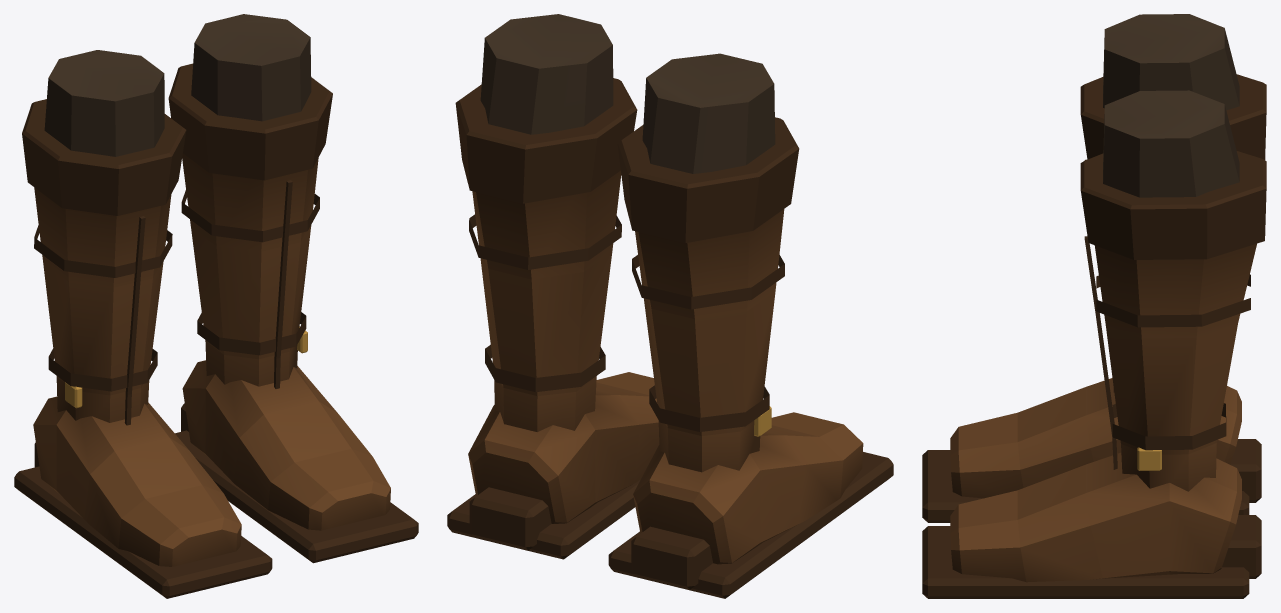
File: f_boots.glb
3 views of the same model, side by side, from view 1: azimuth 30°, elevation 25°; view 2: azimuth 150°, elevation 25°; view 3: azimuth 270°, elevation 25° (orthographic). The views are drawn at different scales.
Parts seen in each view (by area): view 1: LegR_Boot, LegL_Boot, LegR_BootFoot, LegL_BootFoot, LegL_Shin, LegR_Shin; view 2: LegR_Boot, LegL_Boot, LegR_BootFoot, LegL_BootFoot, LegL_Shin, LegR_Shin; view 3: LegL_Boot, LegL_BootFoot, LegR_BootFoot, LegL_Shin, LegR_Shin, LegR_Boot.
Boxes of the visible parts, bbox=[...] form: LegR_Boot: bbox=[22, 99, 186, 425]; LegL_Boot: bbox=[168, 63, 332, 388]; LegR_BootFoot: bbox=[14, 396, 272, 598]; LegL_BootFoot: bbox=[175, 360, 418, 563]; LegL_Shin: bbox=[191, 14, 311, 121]; LegR_Shin: bbox=[44, 50, 164, 156]; LegR_Boot: bbox=[617, 117, 799, 472]; LegL_Boot: bbox=[455, 78, 637, 431]; LegR_BootFoot: bbox=[608, 412, 893, 598]; LegL_BootFoot: bbox=[447, 372, 659, 559]; LegL_Shin: bbox=[480, 14, 613, 134]; LegR_Shin: bbox=[642, 53, 775, 173]; LegL_Boot: bbox=[1080, 151, 1266, 491]; LegL_BootFoot: bbox=[922, 452, 1261, 598]; LegR_BootFoot: bbox=[922, 378, 1261, 522]; LegL_Shin: bbox=[1103, 90, 1239, 197]; LegR_Shin: bbox=[1103, 14, 1239, 110]; LegR_Boot: bbox=[1080, 74, 1266, 392].
Bounding box in the file's own units: 0.3574 × 0.5373 × 0.3633.
